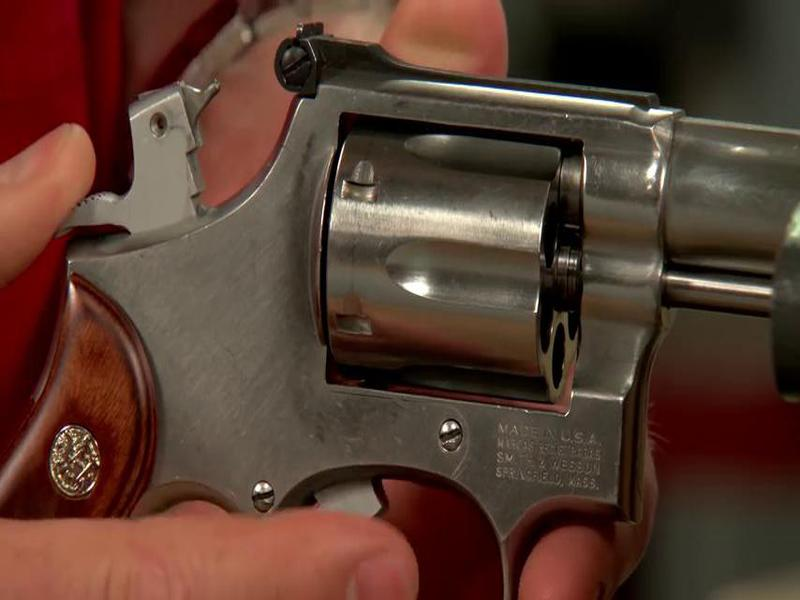Revolver: (21, 22, 800, 547)
